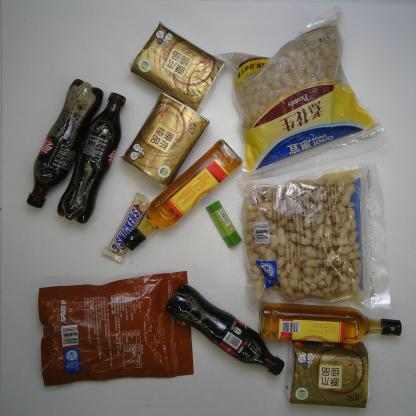Chocolate: (102, 191, 149, 264)
Dried Food: (216, 4, 391, 186), (235, 162, 392, 321), (38, 270, 194, 387)
Drink: (165, 283, 285, 376), (26, 78, 104, 208), (57, 92, 126, 224)
Seasoner: (122, 138, 242, 251), (258, 301, 402, 345)
Stationery: (205, 199, 242, 248)
Tissue: (130, 19, 227, 112), (120, 92, 211, 188), (283, 341, 369, 410)
